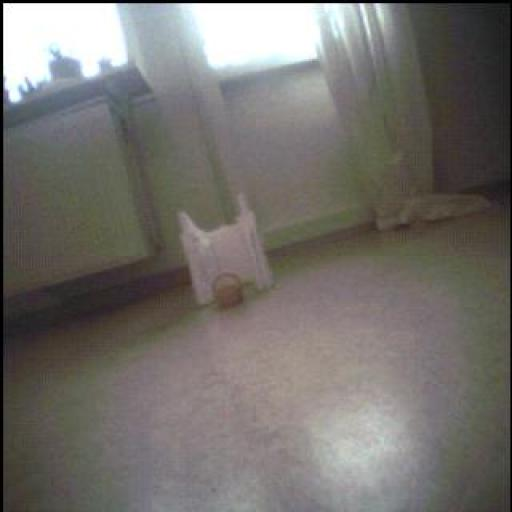Basket: (214, 275, 244, 310)
